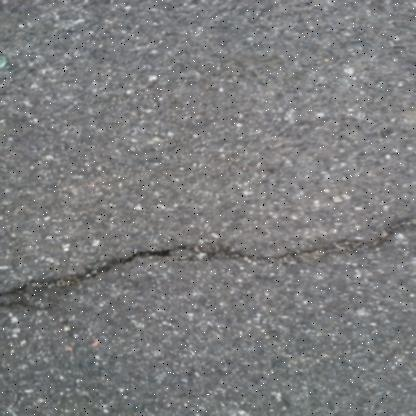Cracks: (0, 215, 416, 308)
